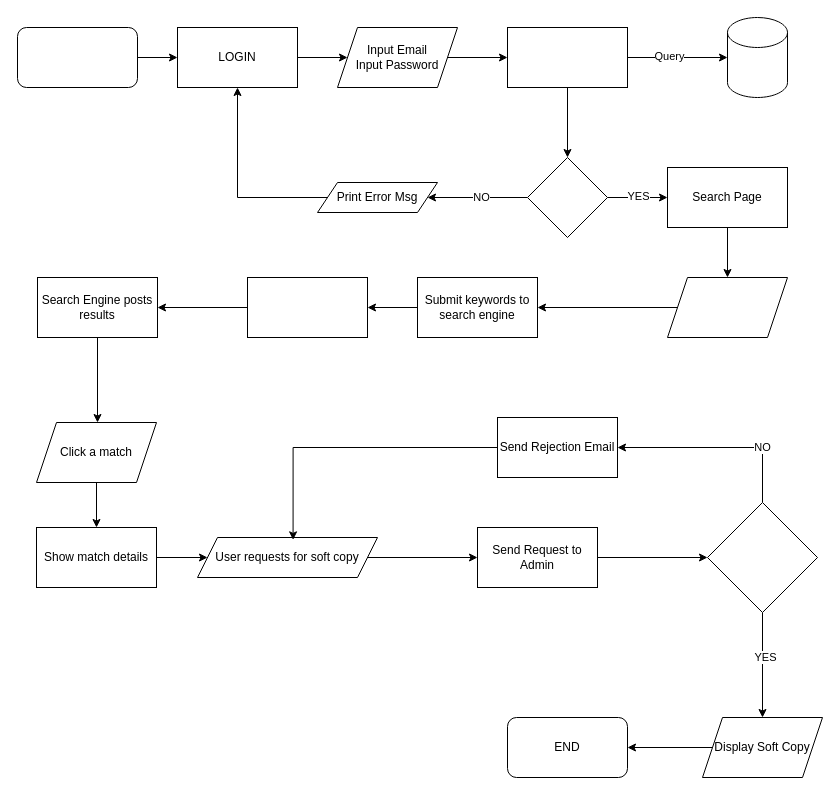
Image size: 840x795. Some labels were removed from this diagram. Each missing label, with the centre of its shape:
"Input Keywords Input Filter" goes at point (727, 307).
"Is approved by admin?" goes at point (762, 557).
"Is creds in DB?" goes at point (567, 197).
"Query from DB" goes at point (567, 57).
"Search engine searches papers from the keywords" goes at point (307, 307).
"START" goes at point (77, 57).
